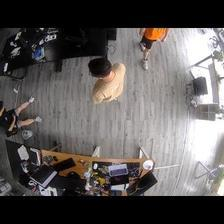normal: (87, 57, 125, 103), (1, 97, 43, 136), (135, 28, 170, 69)
